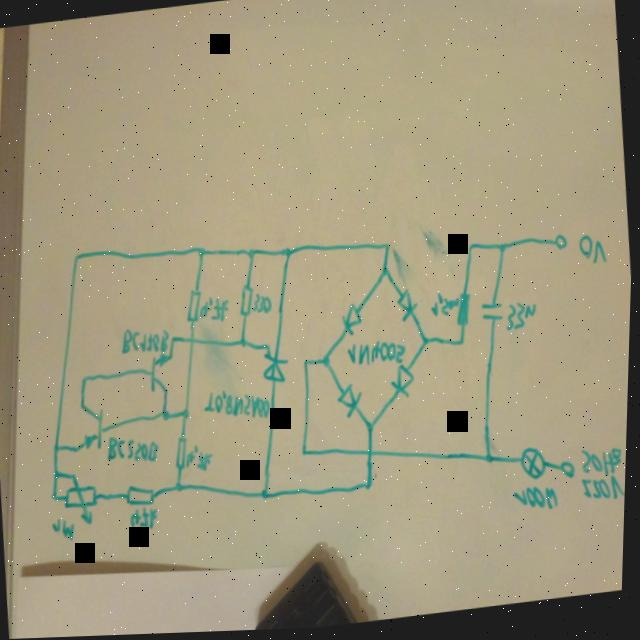capacitor: (478, 298, 506, 331)
crossover: (364, 446, 379, 464), (186, 335, 199, 349)
diode: (388, 365, 420, 404), (334, 385, 366, 423), (393, 288, 421, 330), (337, 303, 366, 340)
inductor: (452, 291, 475, 335)
junction: (481, 452, 500, 471), (278, 246, 295, 264), (258, 488, 273, 506), (243, 249, 259, 265), (158, 409, 172, 427), (417, 336, 432, 352), (193, 246, 208, 262), (364, 422, 379, 438), (179, 408, 194, 424), (363, 482, 379, 496), (78, 372, 92, 388), (320, 357, 333, 373), (455, 339, 469, 353), (377, 269, 392, 282), (496, 244, 508, 260), (174, 482, 186, 498), (51, 469, 64, 482), (52, 442, 64, 456), (237, 337, 248, 352), (70, 251, 82, 264), (300, 358, 311, 372), (382, 241, 392, 256), (465, 244, 475, 258), (300, 448, 310, 460), (50, 492, 59, 505), (169, 335, 178, 346)
resistor: (61, 469, 106, 530), (121, 480, 162, 511), (182, 286, 206, 328), (172, 434, 193, 475), (236, 282, 256, 323)
terminal: (550, 234, 572, 259), (559, 461, 579, 486)
text: (202, 386, 272, 428), (104, 431, 161, 470), (346, 338, 409, 373), (578, 445, 626, 483), (119, 326, 171, 359), (511, 486, 562, 519), (502, 300, 542, 338), (581, 478, 628, 510), (574, 236, 612, 274), (427, 292, 460, 324), (128, 505, 162, 535), (198, 296, 232, 326), (186, 445, 216, 474), (50, 516, 79, 544), (251, 292, 274, 319)
thyristor: (257, 339, 294, 389)
transistor: (70, 401, 110, 459), (144, 352, 181, 400)
